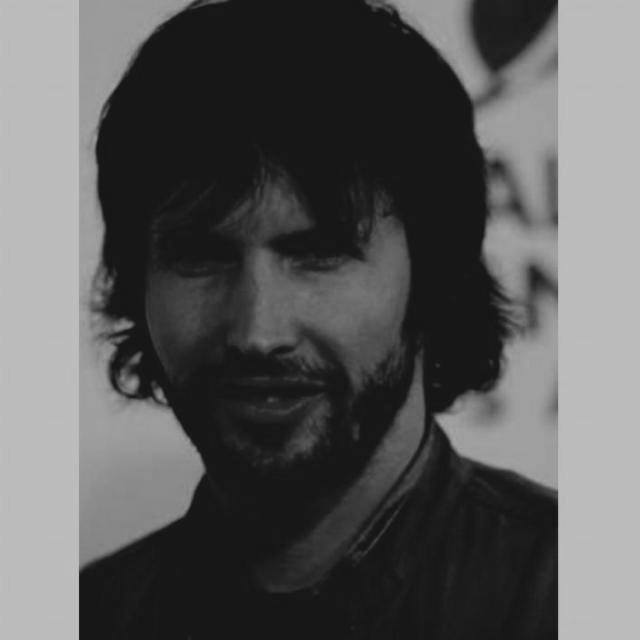real: (118, 118, 440, 510)
